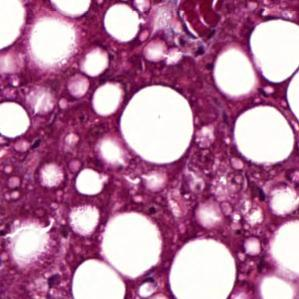steatosis: (120, 82, 195, 166), (233, 106, 297, 165), (106, 7, 142, 39)
